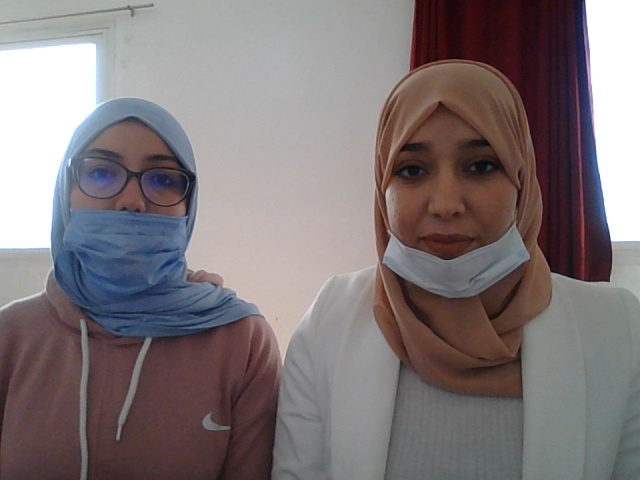mask_weared_incorrect: (350, 63, 558, 317), (39, 100, 216, 325)
